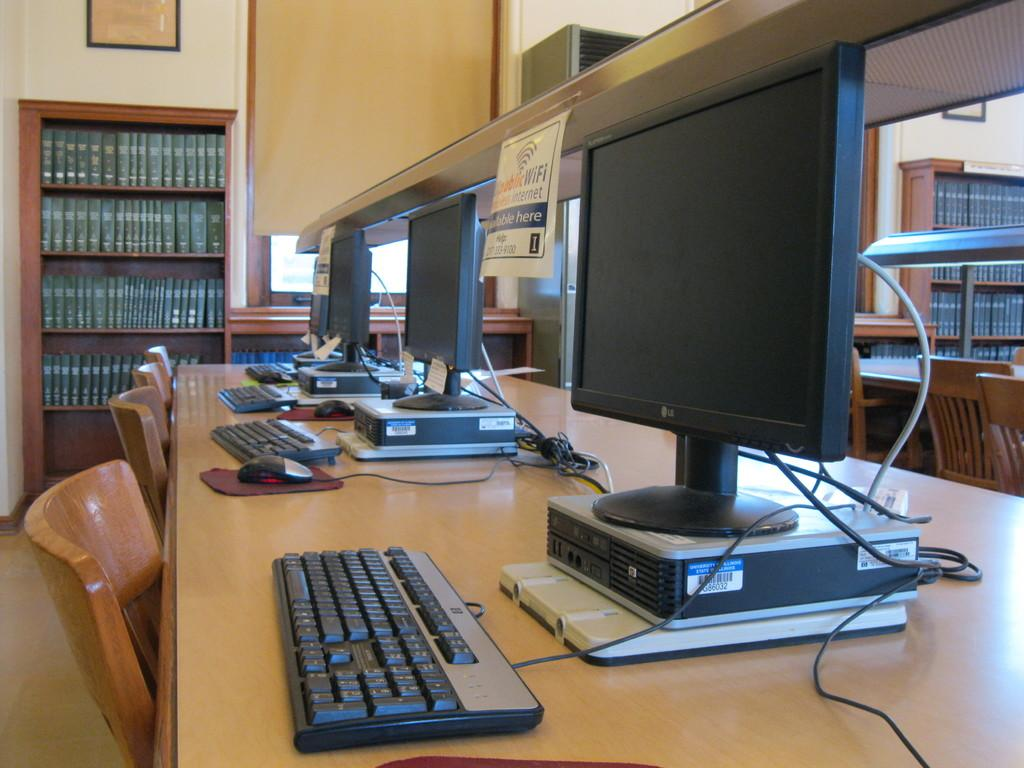Chair: (19, 456, 170, 765), (913, 349, 1018, 492), (99, 383, 175, 547), (837, 341, 925, 467), (973, 369, 1023, 493), (128, 360, 174, 418), (141, 344, 178, 380), (1012, 345, 1023, 366)
Computer-keyboard: (273, 506, 857, 754), (206, 415, 349, 465), (215, 386, 297, 412), (244, 360, 292, 382)
Computer-monitor: (532, 47, 876, 534), (399, 196, 479, 408), (321, 228, 380, 385), (293, 252, 337, 363)
